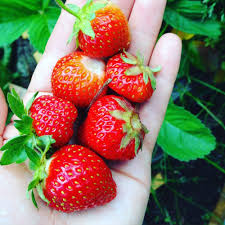ripe: (34, 143, 118, 215), (79, 100, 149, 165), (48, 51, 107, 107), (24, 92, 77, 147), (103, 53, 156, 106), (71, 22, 131, 63)
